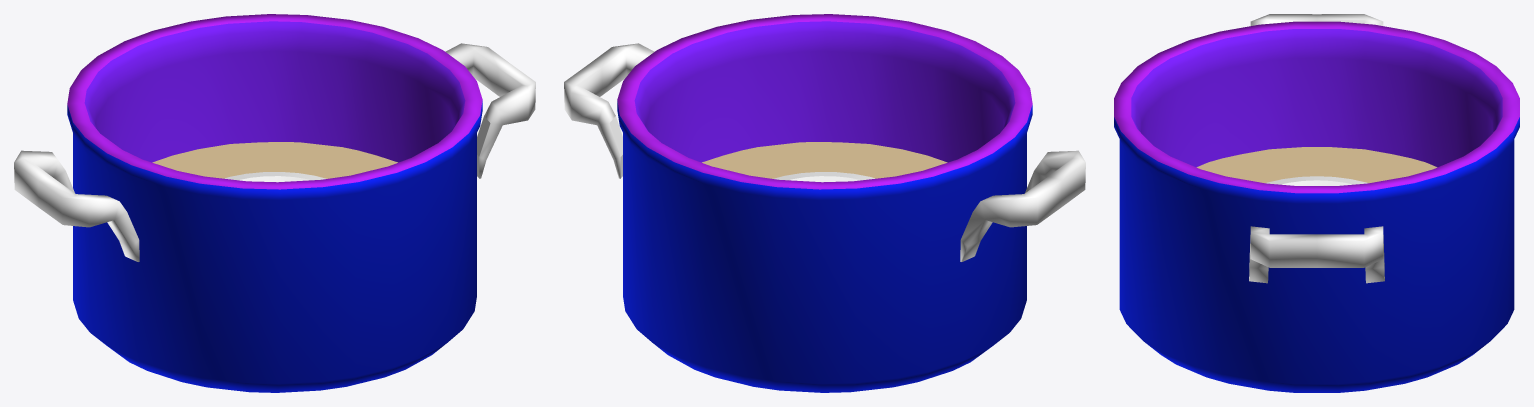
The model's file is Deep Fry Pot.fbx.
3 renders of one model, left to right at view 1: azimuth 30°, elevation 25°; view 2: azimuth 150°, elevation 25°; view 3: azimuth 270°, elevation 25°, orthographic.
Visible parts, largest first — view 1: Cylinder, Cylinder_003, Oil, Doughnut___Raw; view 2: Cylinder, Cylinder_003, Oil, Doughnut___Raw; view 3: Cylinder, Cylinder_003, Oil, Doughnut___Raw.
Part boxes in pixels (x1,y1,x2,y2): Cylinder: [67, 14, 482, 392]; Cylinder_003: [14, 43, 535, 261]; Oil: [152, 142, 397, 178]; Doughnut___Raw: [224, 172, 326, 182]; Cylinder: [617, 14, 1032, 392]; Cylinder_003: [564, 43, 1085, 261]; Oil: [702, 142, 947, 178]; Doughnut___Raw: [773, 172, 875, 182]; Cylinder: [1114, 21, 1519, 392]; Cylinder_003: [1249, 14, 1384, 283]; Oil: [1196, 147, 1437, 183]; Doughnut___Raw: [1266, 176, 1367, 185].
Bounding box in the file's own units: 83.38 × 35.99 × 62.94.
